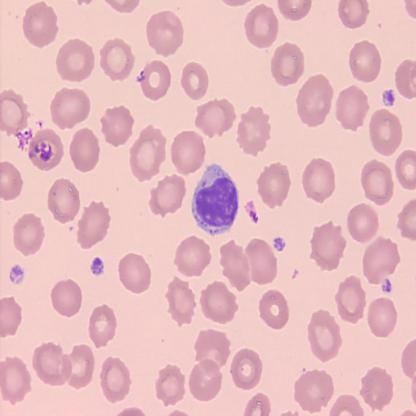Lymphocyte: (191, 162, 240, 236)
